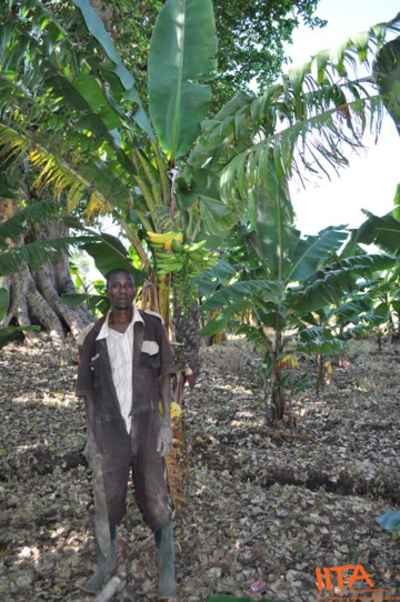bananaHand: (145, 222, 218, 294)
